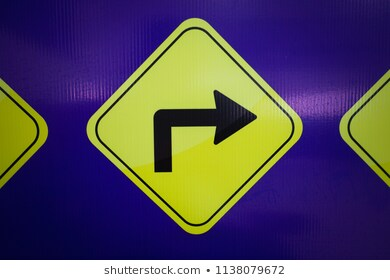right: (85, 16, 306, 238)
